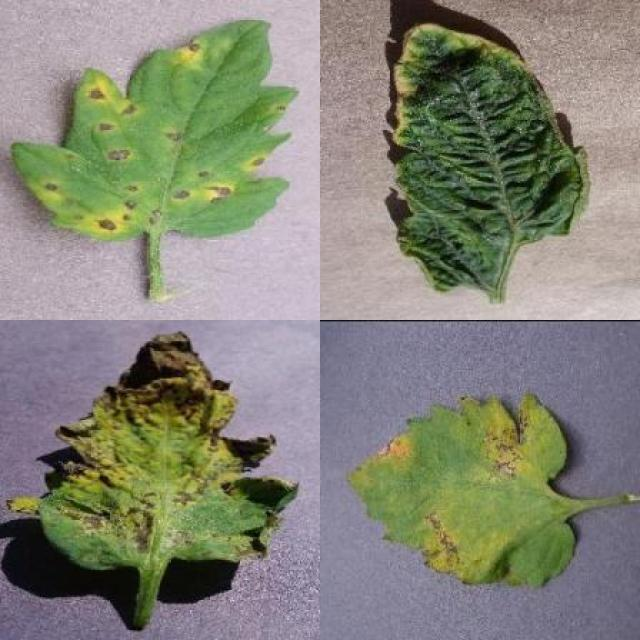Septoria: (10, 328, 300, 573), (13, 20, 296, 243), (344, 390, 582, 593)
Yellow Leaf Curl Virus: (393, 19, 590, 295)
